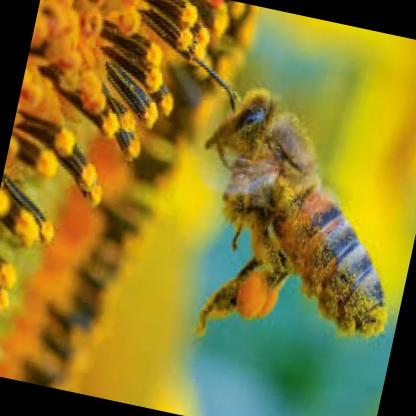other: (130, 42, 415, 383)
